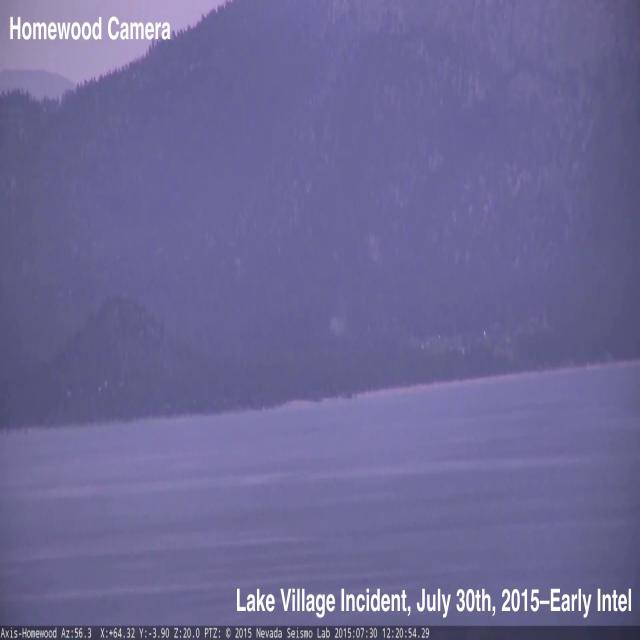smoke: (328, 312, 347, 341)
